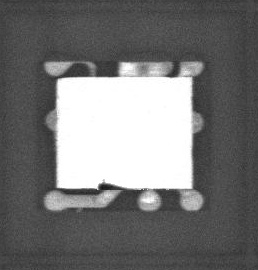DIE_BROKEN: (94, 180, 127, 191)
